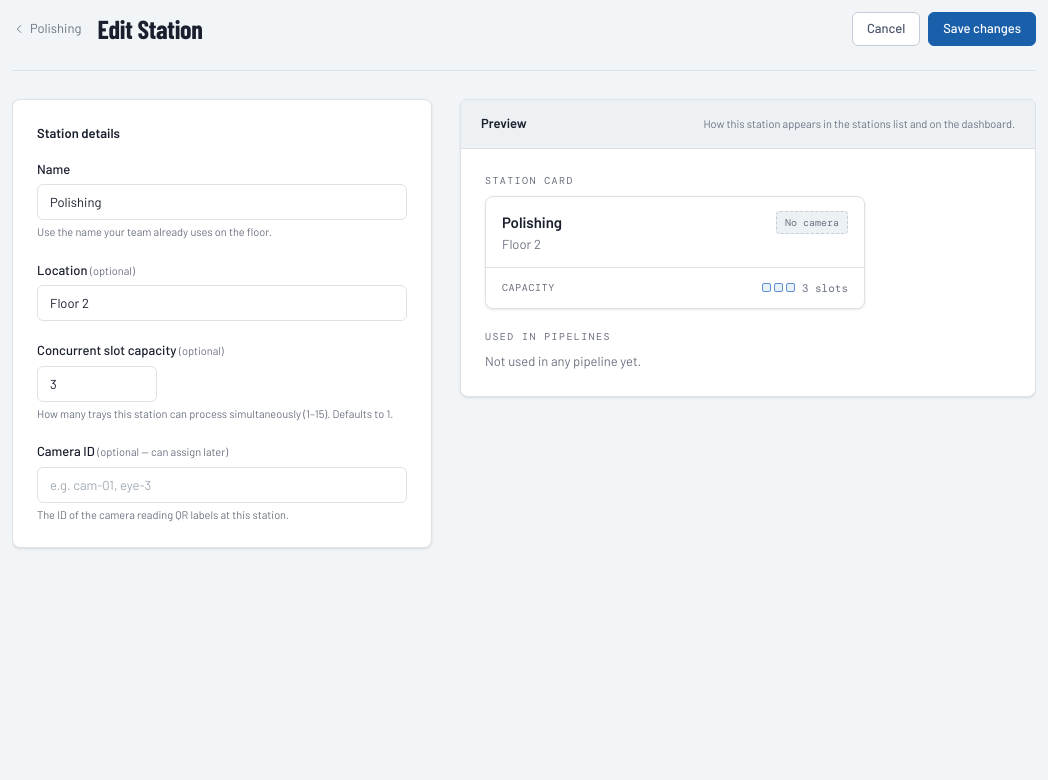
Scenario: EditStationView › should show recovery message and not navigate when assignEye fails after update succeeds
The image size is (1048, 780).
In the field with placeholder "e.g. cam-01, eye-3": (222, 484) left=37, top=466, right=407, bottom=502, type "eye-9"
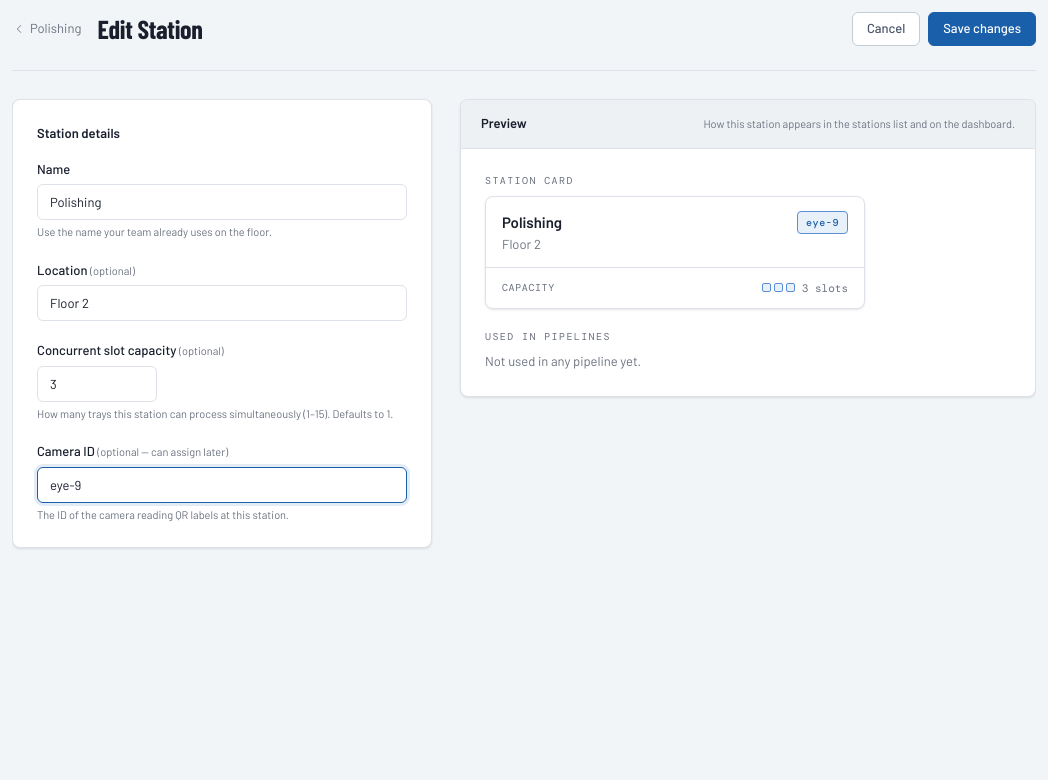
Click the button "Save changes": (982, 29) left=928, top=12, right=1036, bottom=46
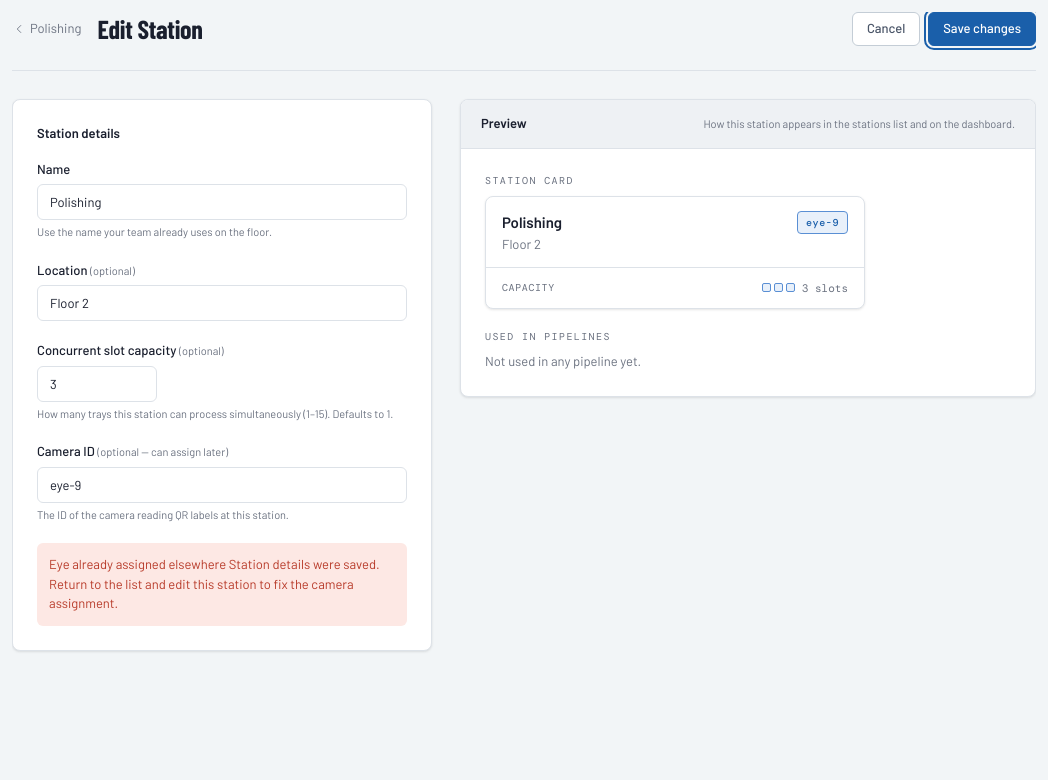
Expected: the text "Station details were saved" is shown, left=49, top=556, right=380, bottom=611
